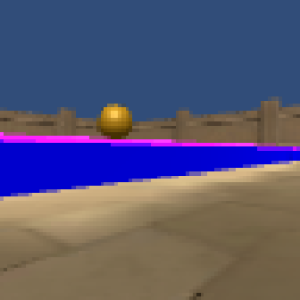goodGoalMulti: (96, 101, 133, 139)
platform: (1, 147, 300, 191)
ramp: (1, 135, 259, 143)
